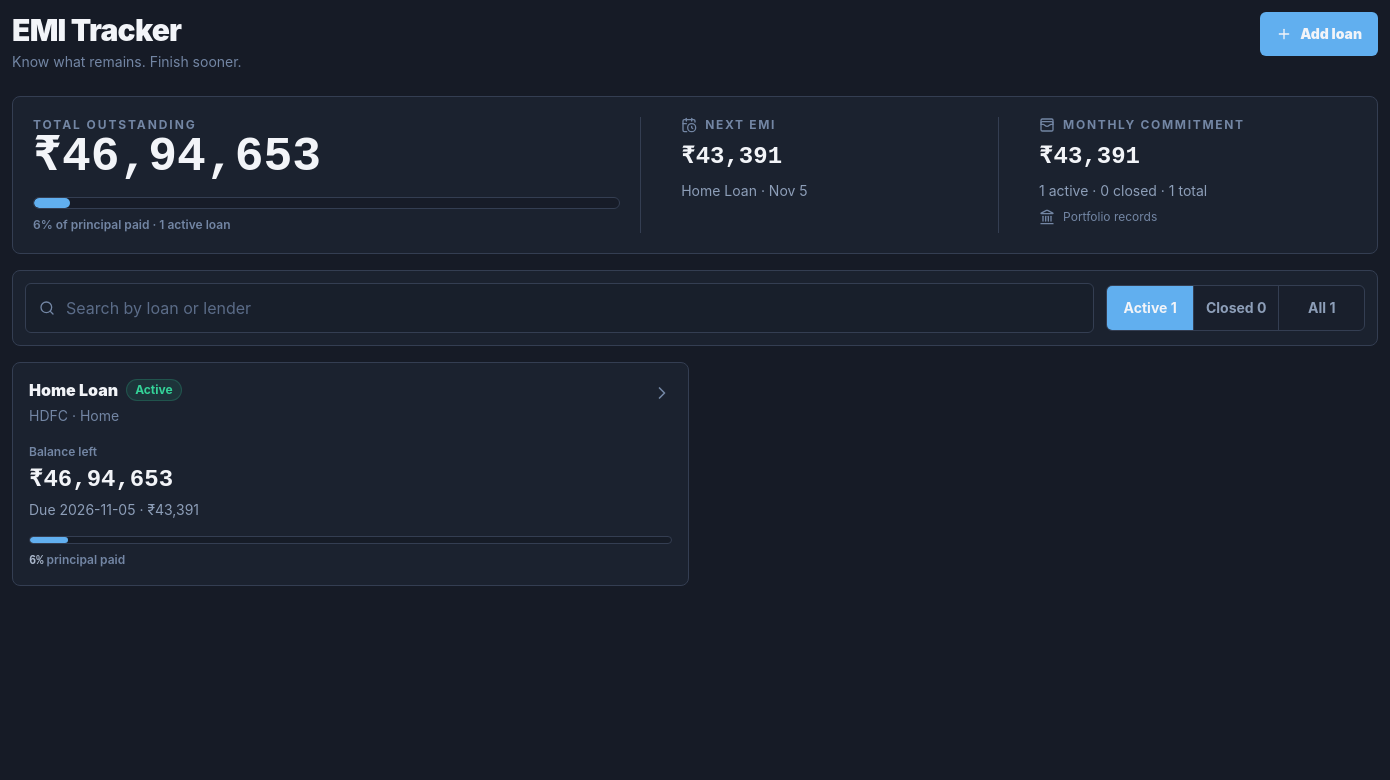
Test: EmiTrackerAdminView › shows pending feedback when opening a loan workspace
The image size is (1390, 780).
Click the button "Home Loan": (350, 474) [12,362,689,586]
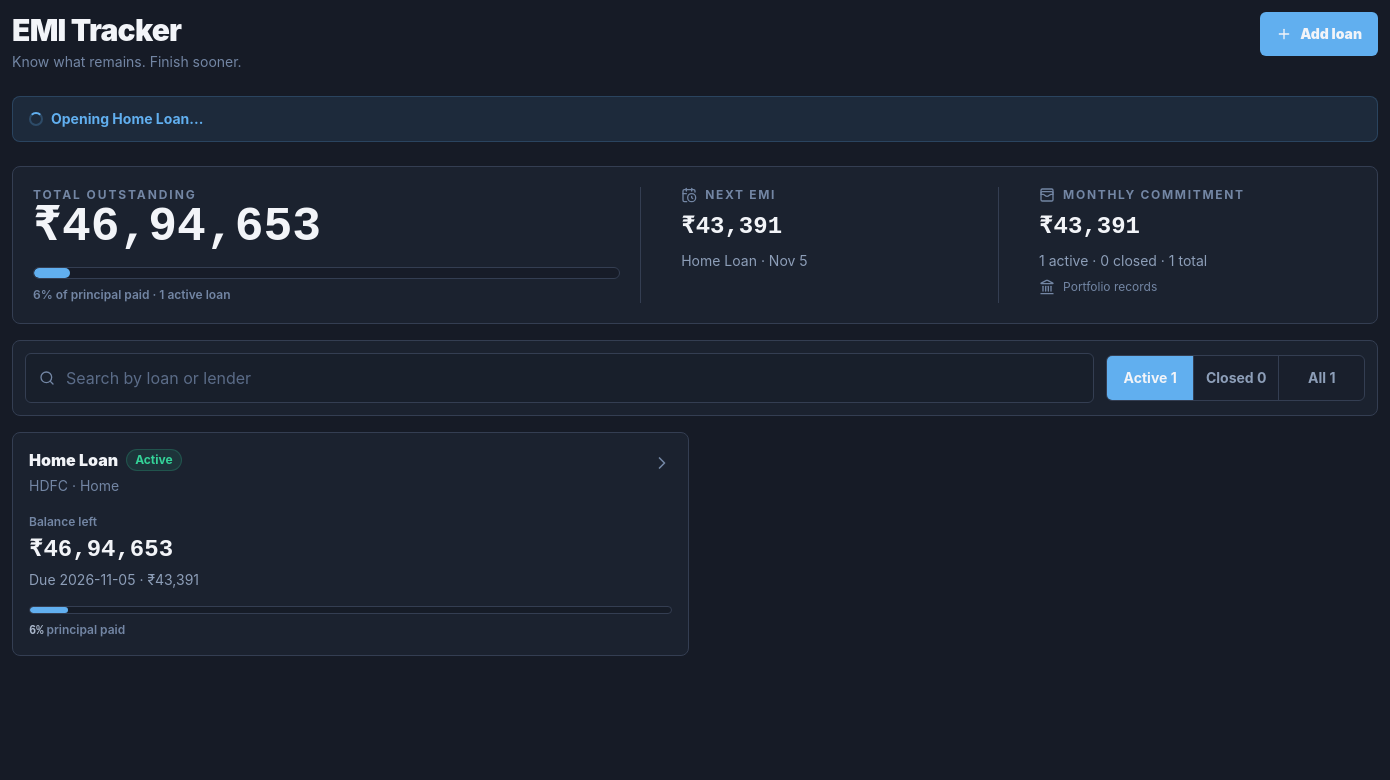
Now the message shows "Opening Home Loan", box [51,110,203,127]
